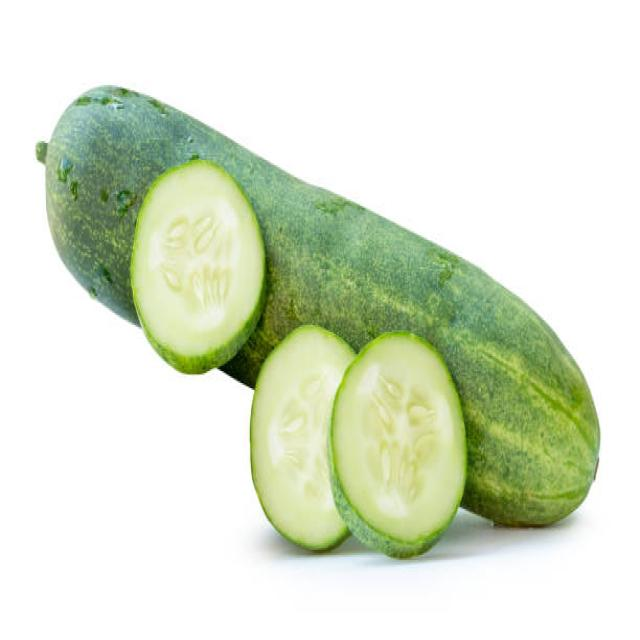cucumber: (45, 81, 601, 526)
